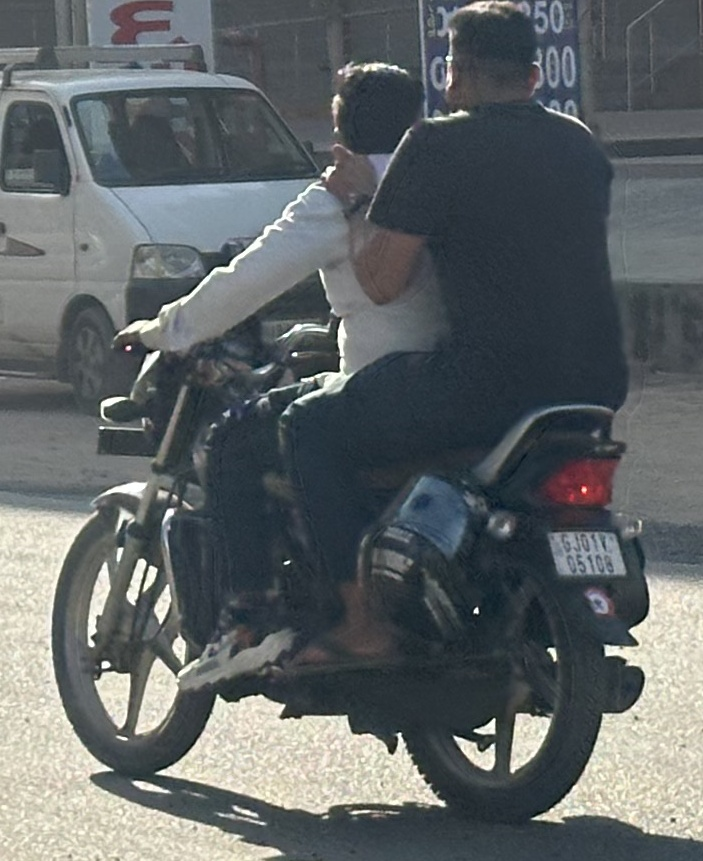BikeWithRider: (41, 0, 663, 829)
NoHelmet: (315, 49, 433, 177), (432, 0, 556, 121)
